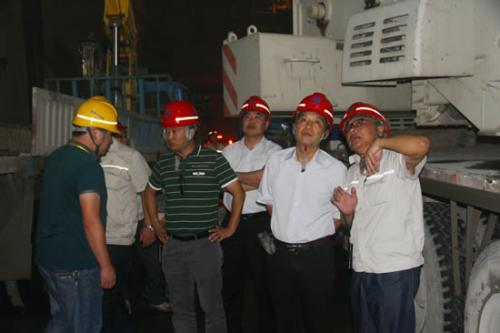hard-hat: (72, 96, 123, 135), (338, 101, 390, 138), (294, 91, 335, 133), (239, 95, 272, 129), (160, 99, 199, 127)
person: (144, 99, 245, 333), (331, 101, 431, 333), (255, 91, 349, 333), (33, 95, 122, 333), (219, 95, 283, 333), (98, 121, 155, 333)
